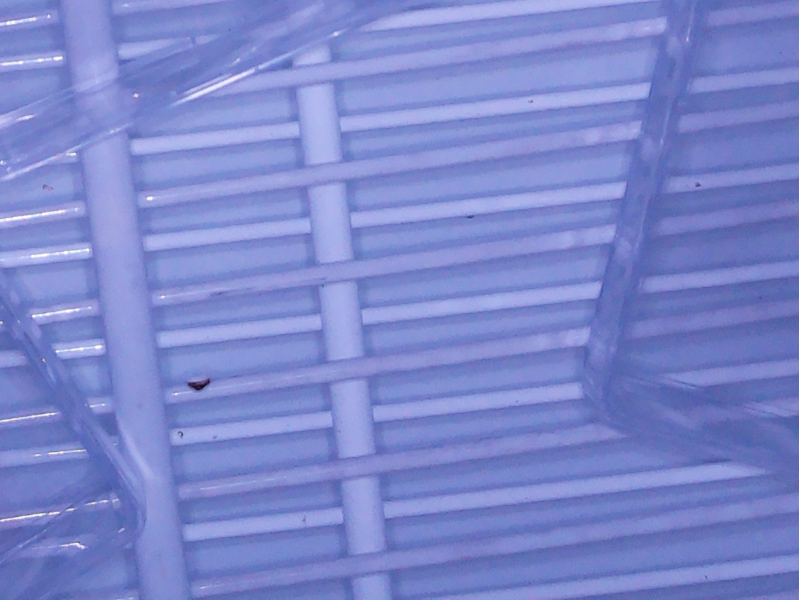plate: (580, 1, 799, 475), (1, 1, 408, 182), (1, 266, 149, 600)
